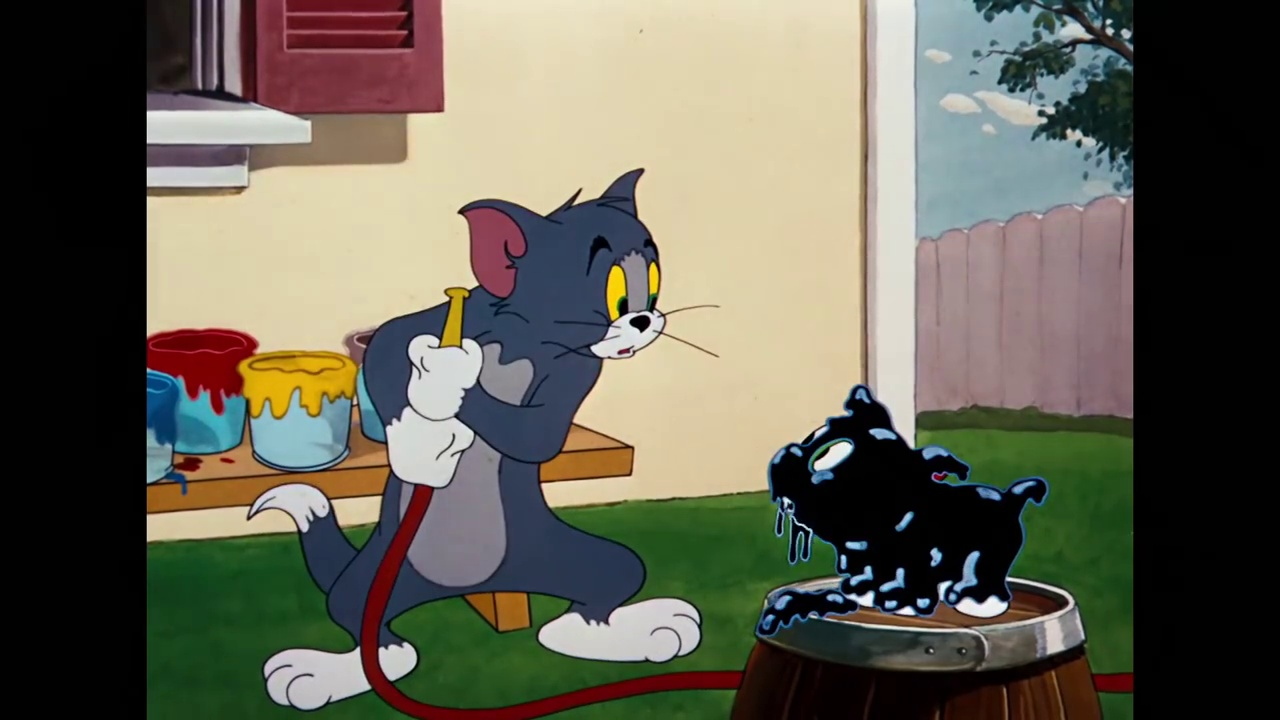tom: (451, 167, 672, 373)
